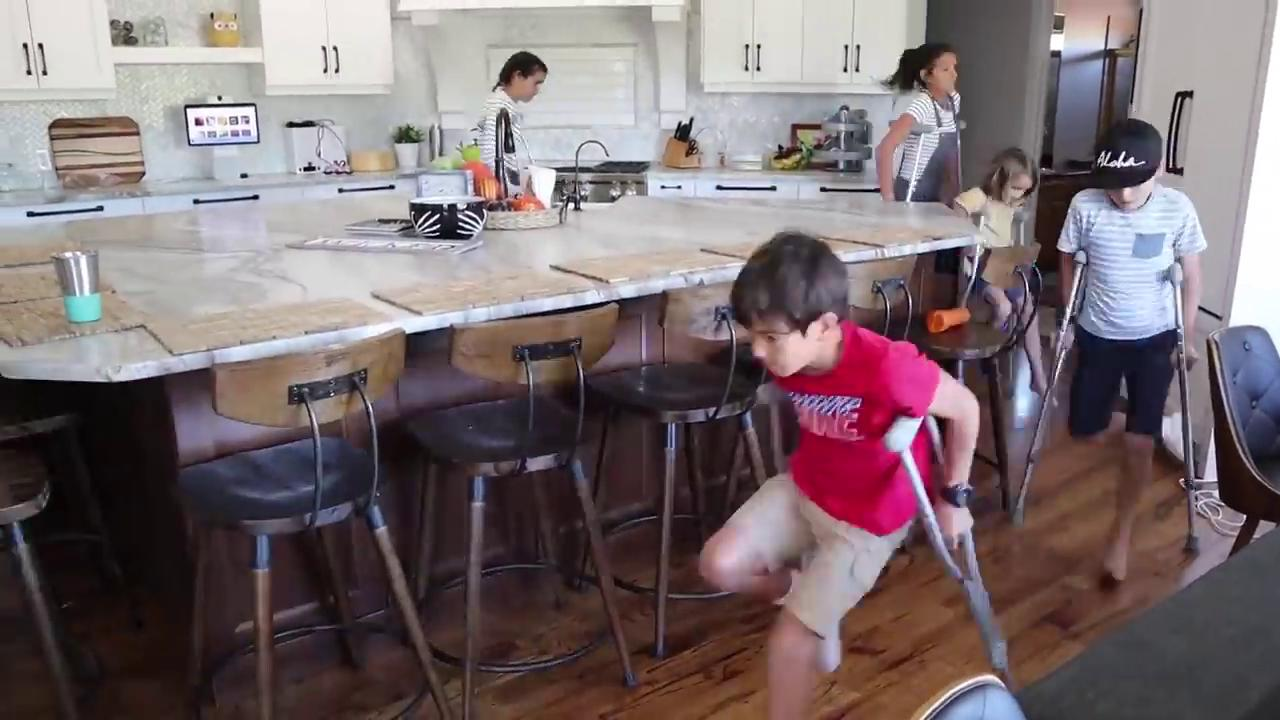crutches: (1009, 119, 1202, 591)
